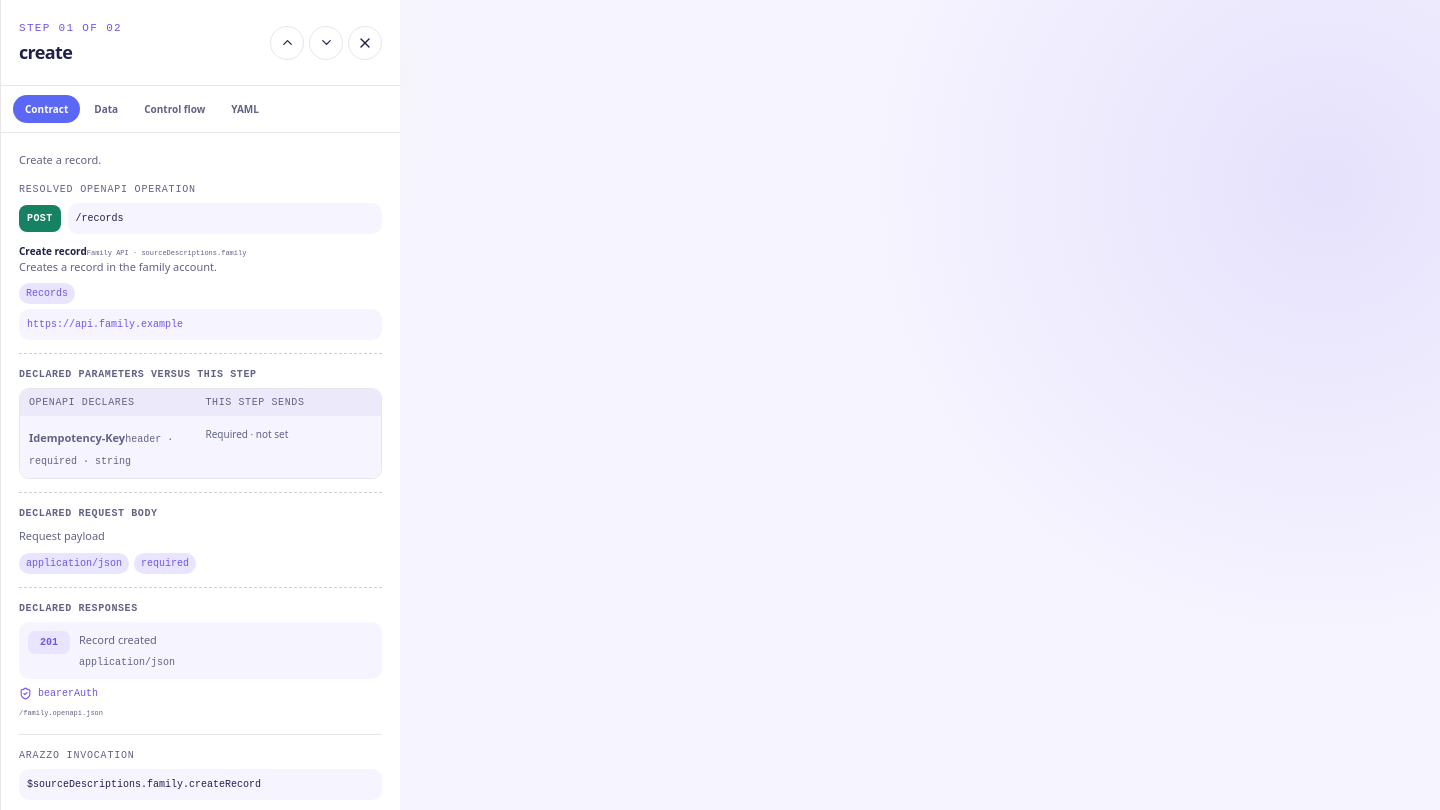
selection inspector › shows a read-only YAML snippet on the YAML tab
What coordinates should you click on to do the following:
click the tab "YAML"
I would click on:
 (245, 109)
Its box is top-left (219, 95), bottom-right (271, 123).
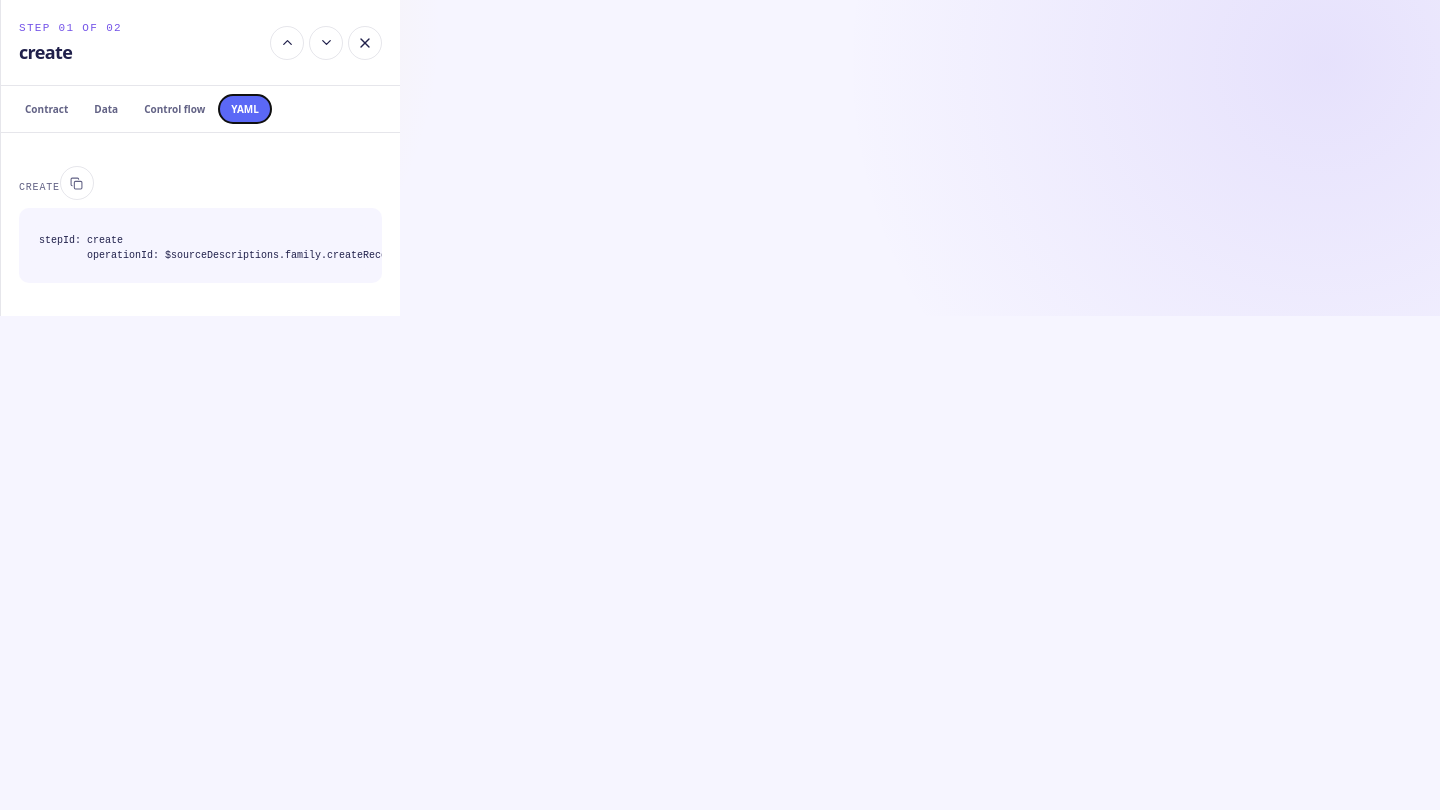
expect the text "operationId: $sourceDescriptions.family.createRecord" is shown: met, box top-left (39, 235), bottom-right (382, 261)
